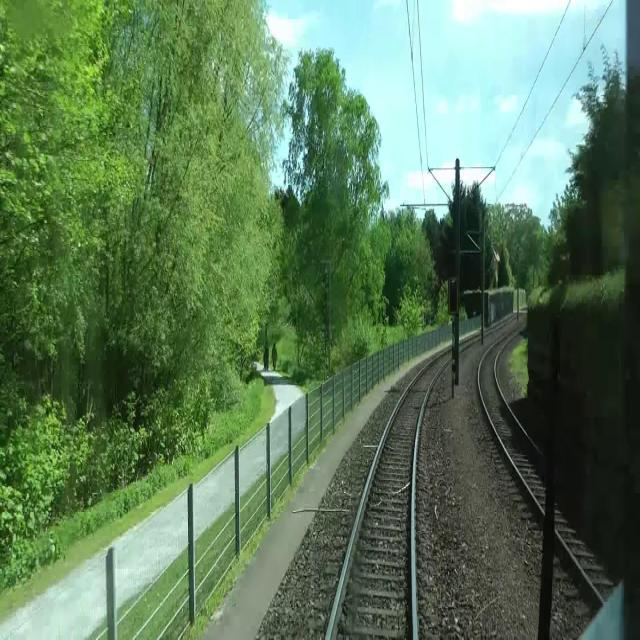rail-track: (480, 335, 640, 639), (329, 351, 451, 639)
